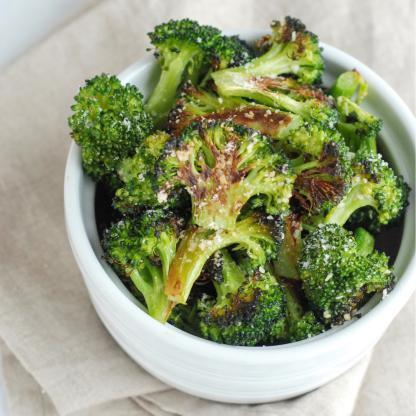broccoli: (66, 14, 412, 348)
